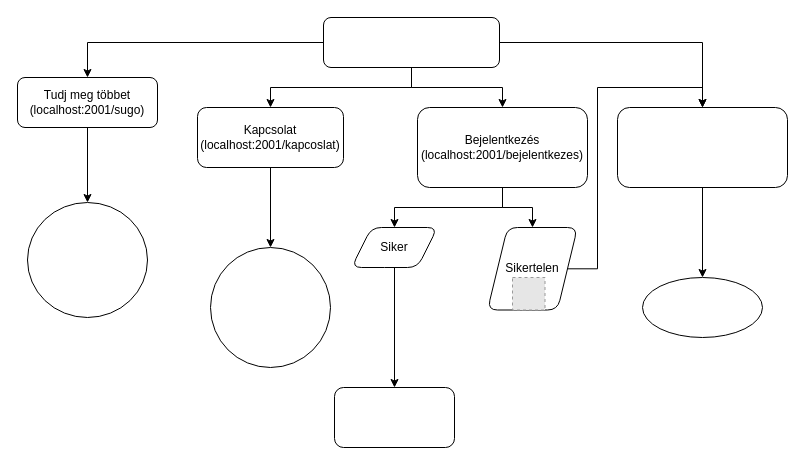
This 805x465 diagram has some shape labels left out. Grey dashed boxes stand in for pictures. Here are the shapes that lost their labels. From the top down, the centre of each, then its label:
point 411,42: Nyitó oldal (elérés: localhost:2001/ )
point 702,147: Regisztráció (localhost:2001/regisztracio)
